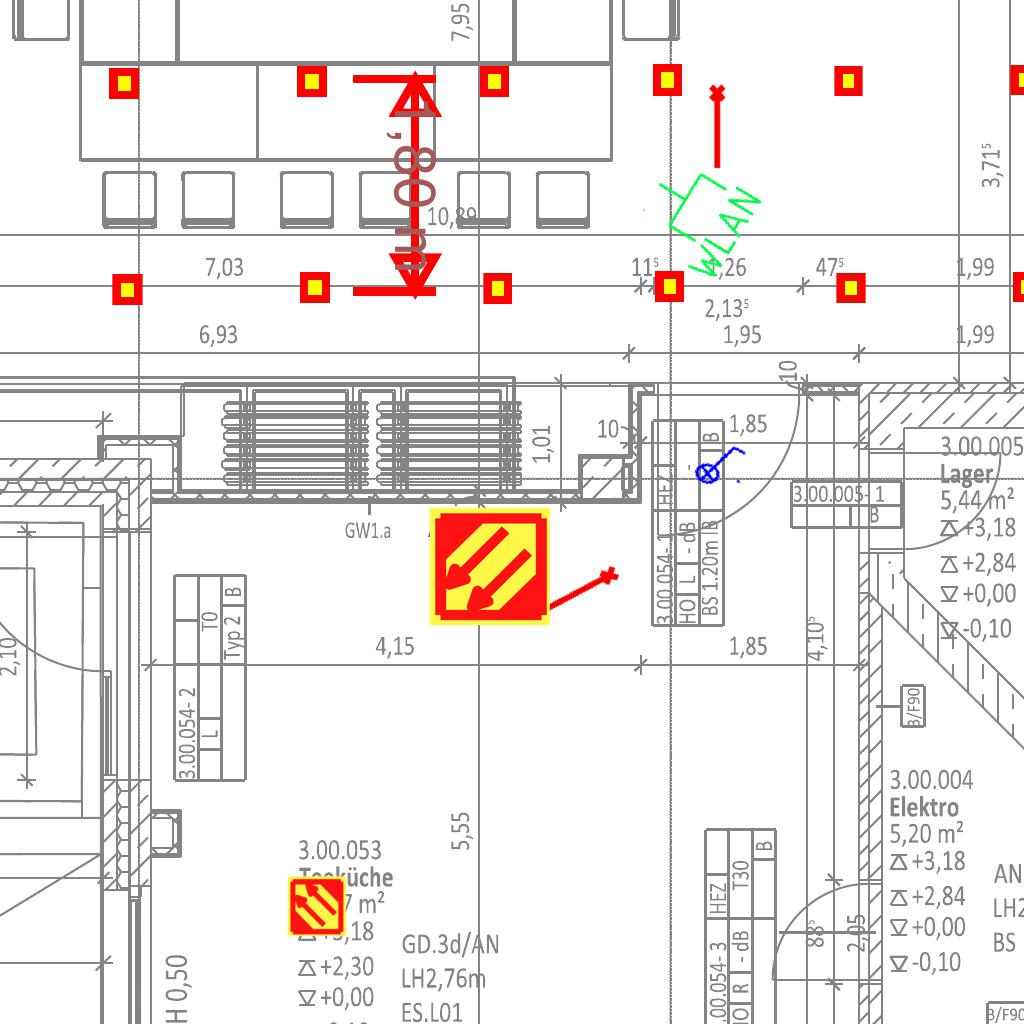ASR_Ansaugoeffnung: (535, 561, 625, 624), (707, 83, 730, 171)
ASR_Ansaugrauchmelder: (427, 504, 552, 629), (286, 875, 348, 937)
Ausschalter_beleuchtet: (420, 504, 516, 616), (686, 432, 752, 494)
WLAN: (624, 145, 768, 290)
